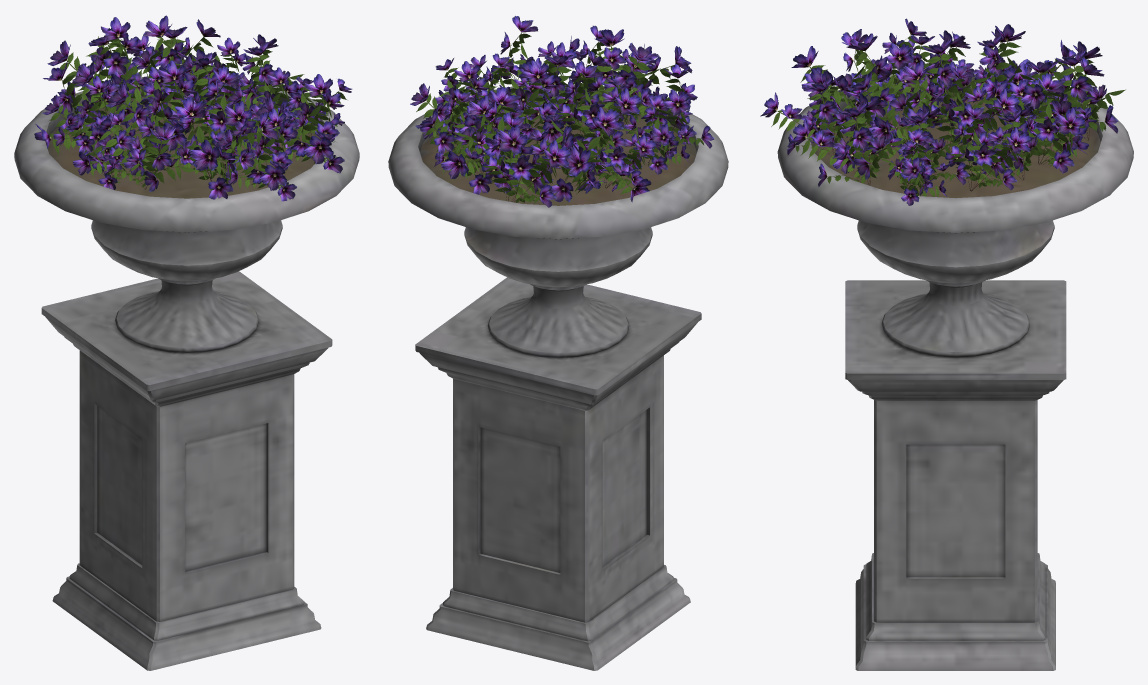
File: planter-urn.glb
The picture shows the model from 3 angles, left to right: view 1: azimuth 30°, elevation 25°; view 2: azimuth 150°, elevation 25°; view 3: azimuth 270°, elevation 25°; orthographic projection. The views are drawn at different scales.
Parts seen in each view (by area): view 1: GardenUrn, Frowers; view 2: GardenUrn, Frowers; view 3: GardenUrn, Frowers.
Part boxes in pixels (left/top/right/bottom): GardenUrn: left=14, top=76, right=359, bottom=670; Frowers: left=34, top=15, right=352, bottom=201; GardenUrn: left=388, top=84, right=728, bottom=670; Frowers: left=410, top=16, right=714, bottom=207; GardenUrn: left=777, top=72, right=1133, bottom=670; Frowers: left=760, top=18, right=1125, bottom=205.
Size of the model in its own units: 0.5561 by 1 by 0.5884.
2 materials, 2 textured.
